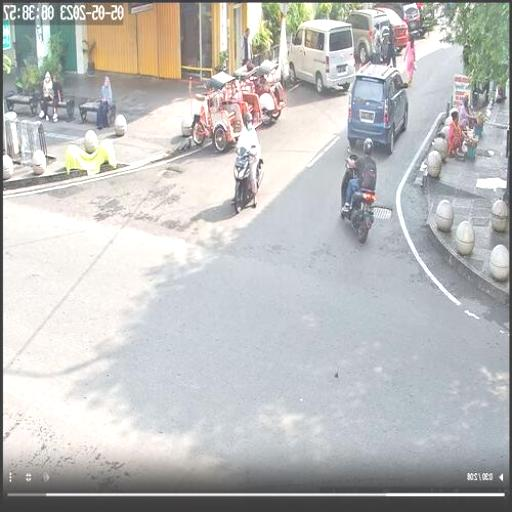mobil: (347, 61, 411, 155), (284, 18, 356, 93), (336, 8, 392, 63)
motor: (338, 152, 384, 247), (226, 143, 270, 220)
